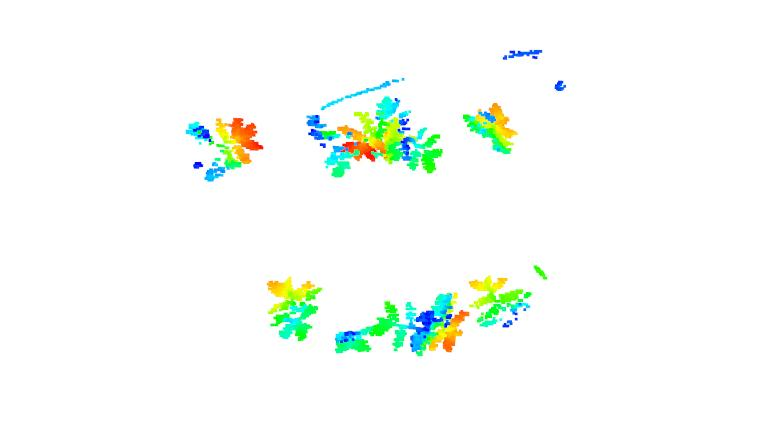chickpea: (338, 97, 444, 173), (369, 290, 467, 351), (184, 112, 265, 184), (261, 274, 323, 343), (465, 271, 531, 328), (302, 111, 354, 180), (462, 101, 519, 156), (329, 322, 369, 357)
